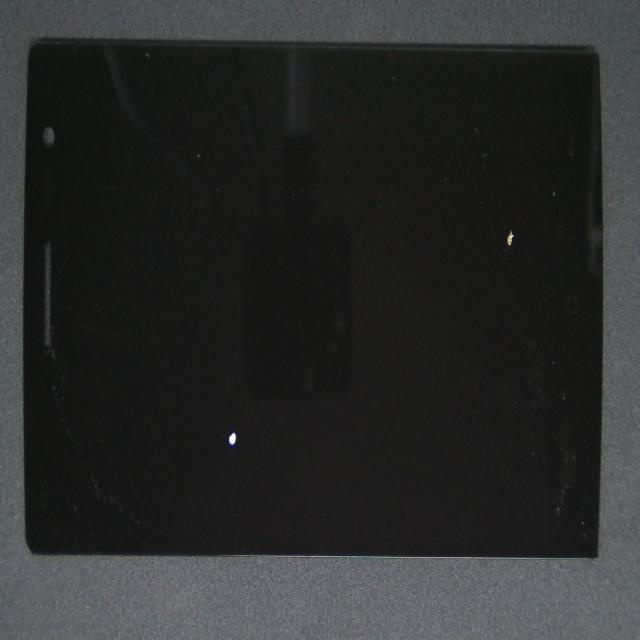stain: (263, 62, 640, 337), (132, 180, 333, 640)
